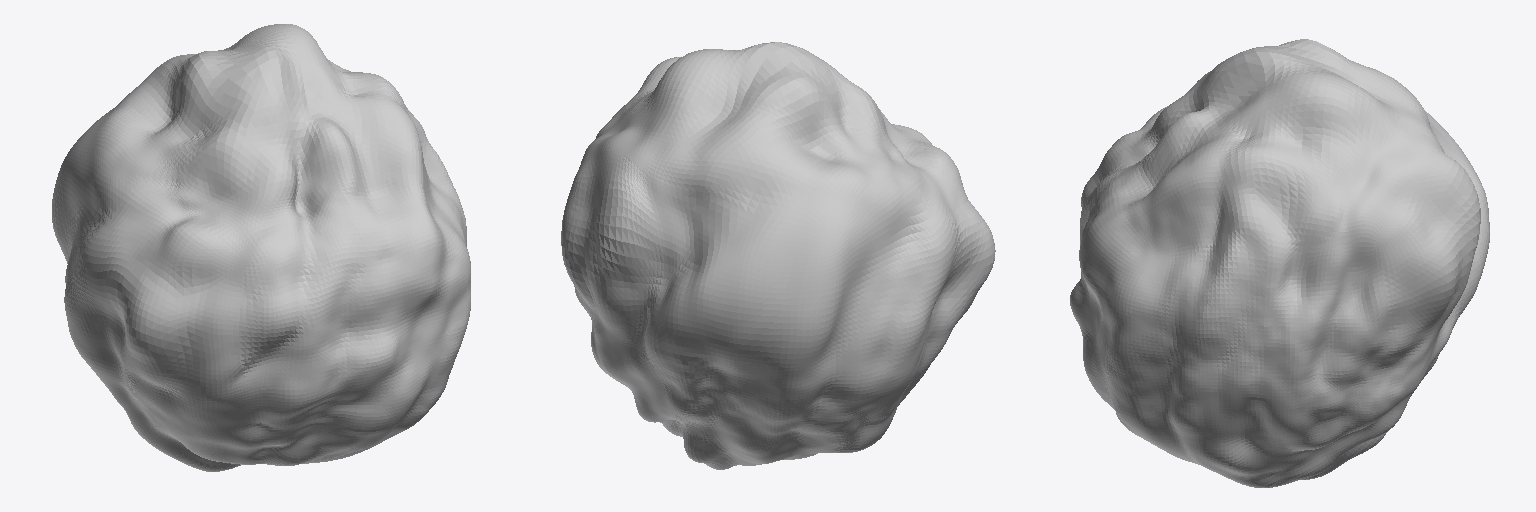
File: Blob.obj
3 renders of one model, left to right at view 1: azimuth 30°, elevation 25°; view 2: azimuth 150°, elevation 25°; view 3: azimuth 270°, elevation 25°, orthographic.
Parts seen in each view (by area): view 1: Cube_Cube.001; view 2: Cube_Cube.001; view 3: Cube_Cube.001.
Part boxes in pixels (bbox=[...]): Cube_Cube.001: bbox=[52, 24, 470, 471]; Cube_Cube.001: bbox=[561, 42, 995, 469]; Cube_Cube.001: bbox=[1070, 39, 1489, 487].
Bounding box in the file's own units: 7.62 × 8.62 × 7.94.